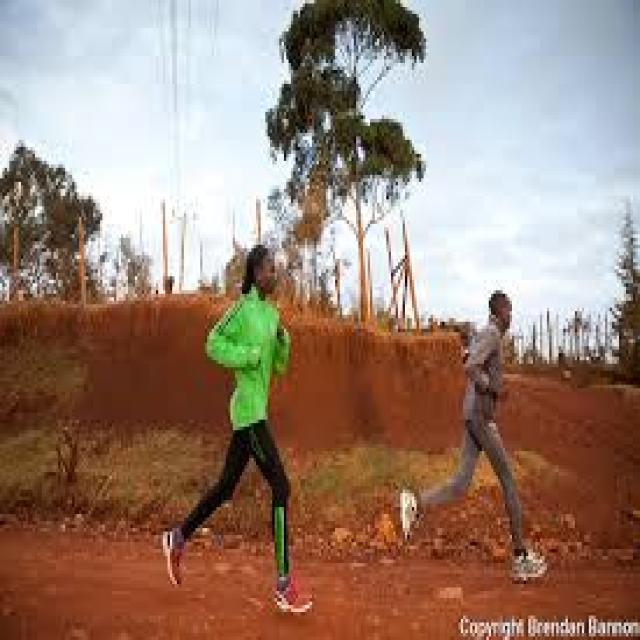running: (159, 240, 317, 615), (396, 286, 549, 586)
